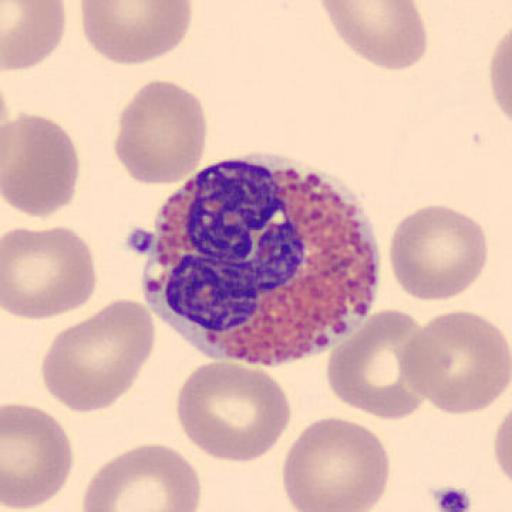RBC: (40, 298, 156, 414), (175, 360, 293, 464), (399, 309, 511, 416), (325, 308, 426, 421), (282, 414, 391, 511), (113, 79, 208, 186), (388, 204, 490, 302), (2, 224, 98, 322), (81, 441, 202, 512), (3, 112, 81, 218), (2, 402, 75, 511), (320, 0, 428, 72), (79, 0, 194, 66), (1, 0, 67, 72), (489, 25, 512, 129), (492, 384, 512, 488), (493, 409, 512, 484)
WBC: (141, 156, 380, 367)
